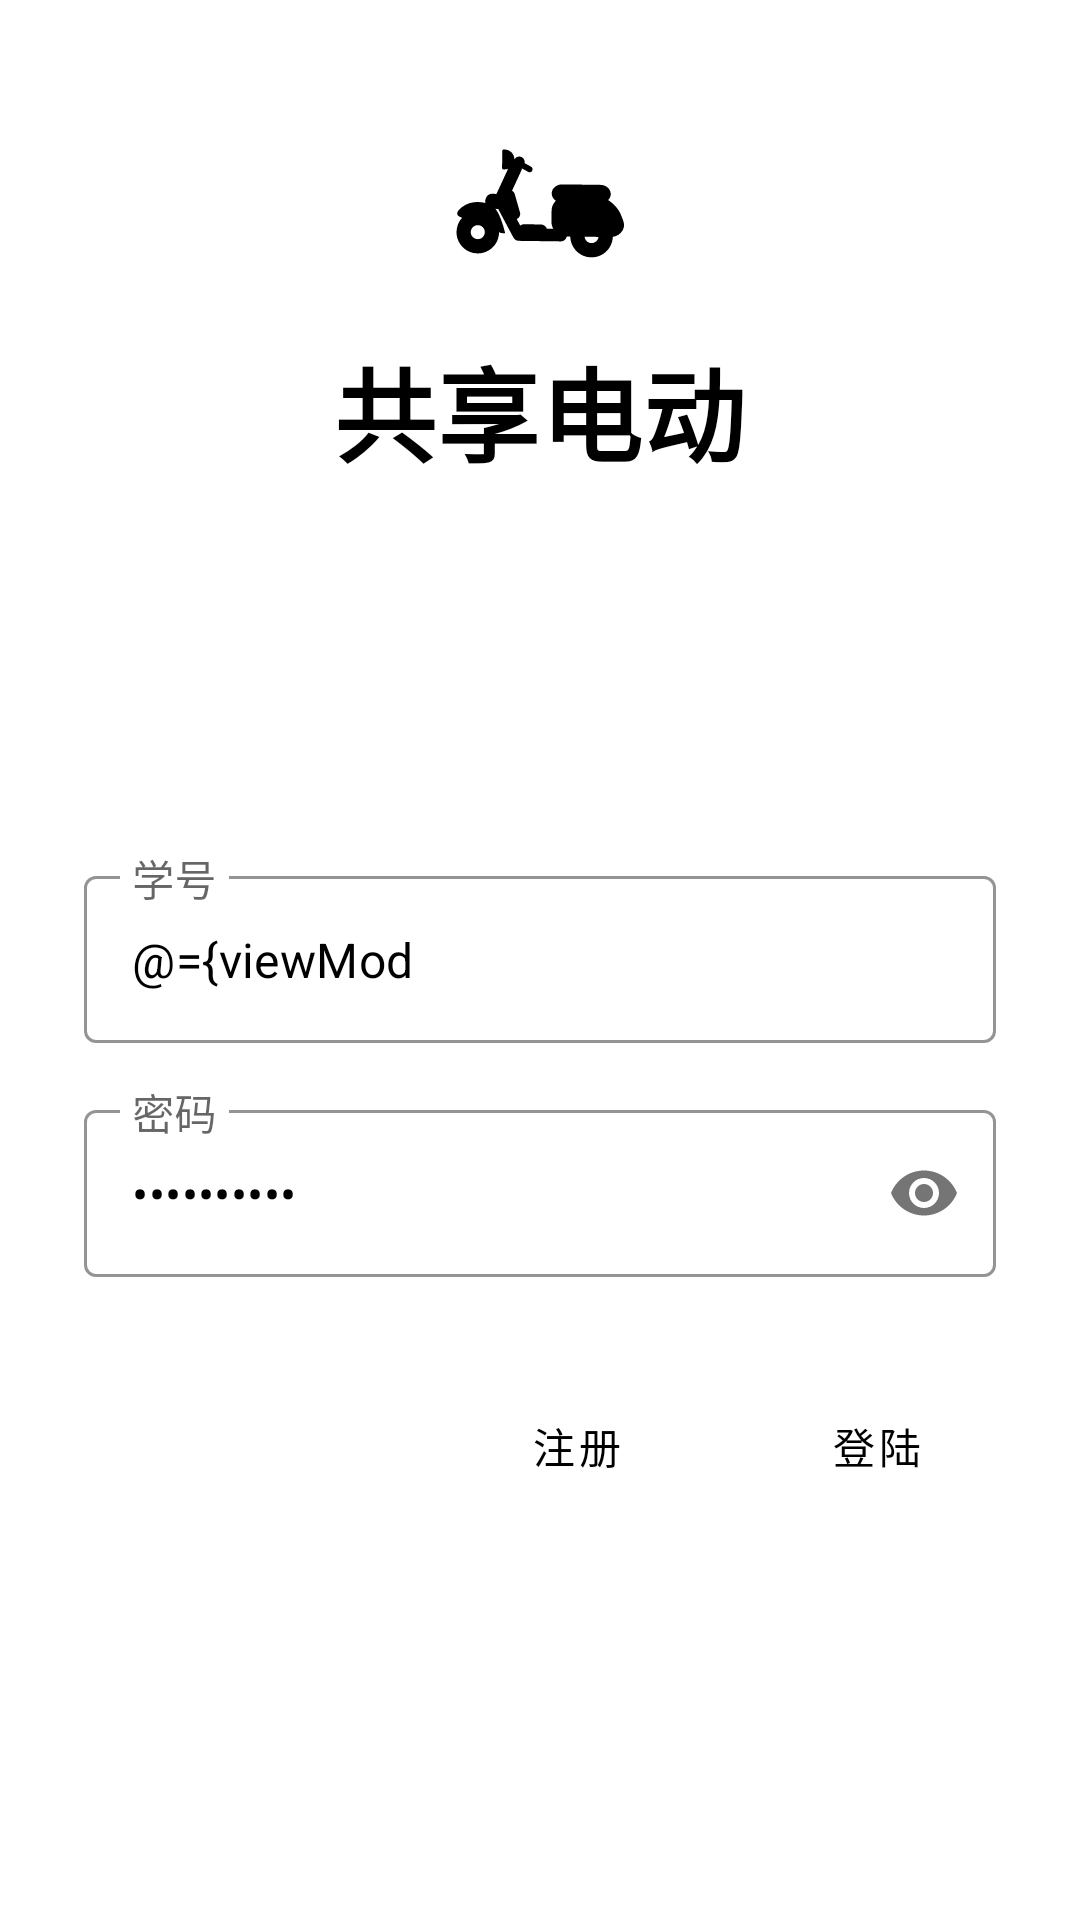

Named icons in this screenshot (1080*1920) and their centers, (x,y):
ebike: (540,203)
